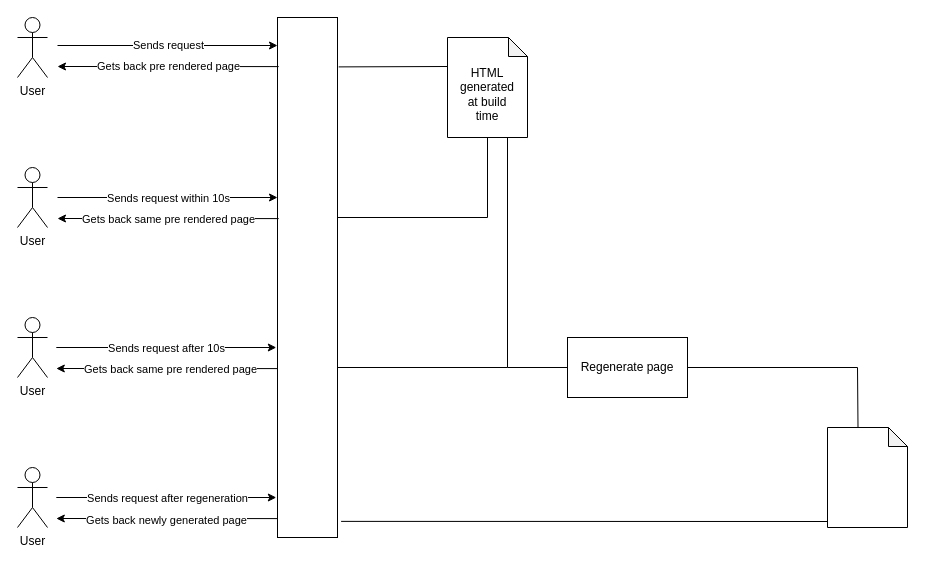
This 925x566 diagram has some shape labels left out. The shapes that lost their labels are listed below. From the top down, each one's centre as x and y in pixels, then its label:
(x=307, y=277): Server
(x=867, y=477): HTML regenerated
